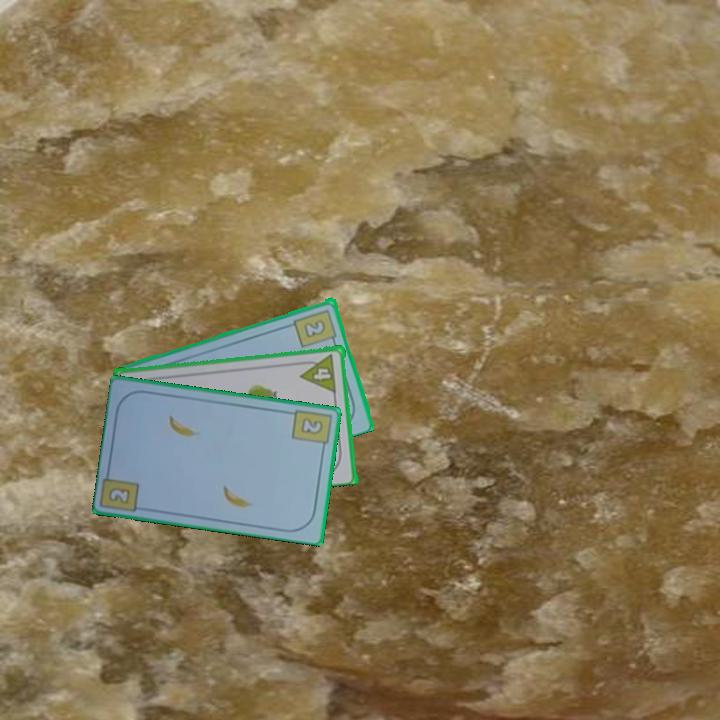2b: (288, 406, 334, 454), (291, 305, 340, 350), (105, 483, 134, 507)
4p: (297, 350, 339, 395)
